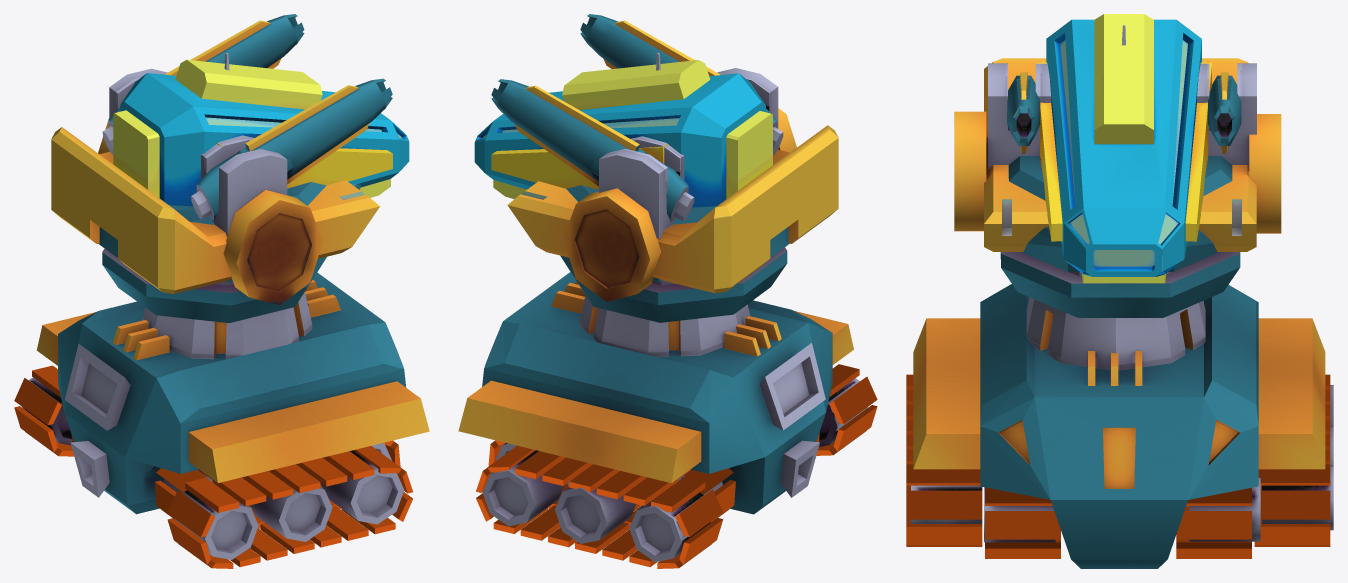
Rendered from Player_Idle_2_Upgrade2.obj.
The picture shows the model from 3 angles, left to right: view 1: azimuth 30°, elevation 25°; view 2: azimuth 150°, elevation 25°; view 3: azimuth 270°, elevation 25°; orthographic projection. The views are drawn at different scales.
Visible parts, largest first — view 1: Object008, Box020, Object014, Box018, Box019, Box017; view 2: Object008, Object014, Box019, Box018, Box020, Box016; view 3: Object008, Box020, Box019, Box016, Box017, Object014, Box018, Box009.
Part boxes in pixels (x1=…): Object008: x1=36, y1=59, x2=429, y2=514; Box020: x1=167, y1=446, x2=412, y2=568; Object014: x1=102, y1=14, x2=392, y2=220; Box018: x1=22, y1=377, x2=404, y2=559; Box019: x1=14, y1=365, x2=74, y2=456; Box017: x1=155, y1=440, x2=400, y2=528; Object008: x1=458, y1=60, x2=853, y2=514; Object014: x1=491, y1=14, x2=783, y2=221; Box019: x1=476, y1=445, x2=723, y2=568; Box018: x1=482, y1=378, x2=867, y2=562; Box020: x1=816, y1=364, x2=877, y2=455; Box016: x1=488, y1=440, x2=735, y2=526; Object008: x1=913, y1=14, x2=1325, y2=568; Box020: x1=906, y1=374, x2=982, y2=546; Box019: x1=1254, y1=374, x2=1330, y2=546; Box016: x1=1176, y1=487, x2=1251, y2=558; Box017: x1=985, y1=487, x2=1060, y2=558; Object014: x1=1007, y1=72, x2=1241, y2=153; Box018: x1=911, y1=385, x2=1333, y2=530; Box009: x1=984, y1=478, x2=1260, y2=542.
Size of the model in its own units: 65.77 by 85.23 by 68.55.
5 materials, 3 textured.
